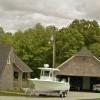Boat: (24, 61, 73, 96)
